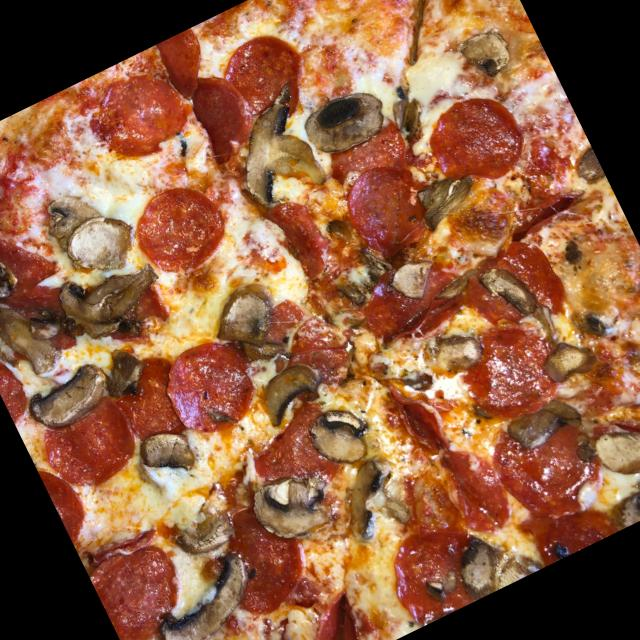mushrooms: (206, 76, 337, 216), (146, 540, 277, 640), (36, 172, 144, 287), (58, 248, 178, 343), (290, 74, 398, 168), (324, 450, 422, 547), (20, 352, 120, 438), (443, 514, 541, 600), (244, 455, 336, 546), (202, 270, 292, 360), (156, 479, 244, 566), (244, 350, 332, 434), (0, 286, 74, 384), (500, 389, 586, 464), (300, 396, 382, 473), (127, 418, 206, 494), (408, 162, 488, 235), (408, 318, 488, 390), (475, 252, 541, 330), (535, 322, 607, 392), (448, 18, 518, 86), (324, 245, 396, 311), (94, 340, 156, 404), (382, 248, 446, 310), (588, 412, 640, 488), (592, 459, 640, 535), (564, 141, 608, 193), (426, 262, 476, 306), (0, 253, 24, 313)
pepperoni: (486, 389, 619, 528), (373, 505, 516, 632), (189, 497, 322, 630), (442, 309, 574, 436), (27, 382, 150, 502), (418, 80, 535, 199), (123, 171, 240, 287), (154, 328, 266, 446), (88, 56, 202, 170), (217, 21, 324, 139), (354, 247, 472, 354), (85, 531, 198, 640), (454, 230, 568, 338), (336, 147, 444, 258), (99, 342, 203, 452), (172, 63, 272, 174), (310, 107, 420, 207), (425, 434, 520, 540), (246, 185, 338, 288), (270, 306, 358, 398), (375, 368, 452, 466), (139, 24, 225, 110), (98, 276, 180, 355), (0, 202, 60, 307), (532, 500, 620, 566), (271, 587, 378, 640), (0, 336, 40, 421)
